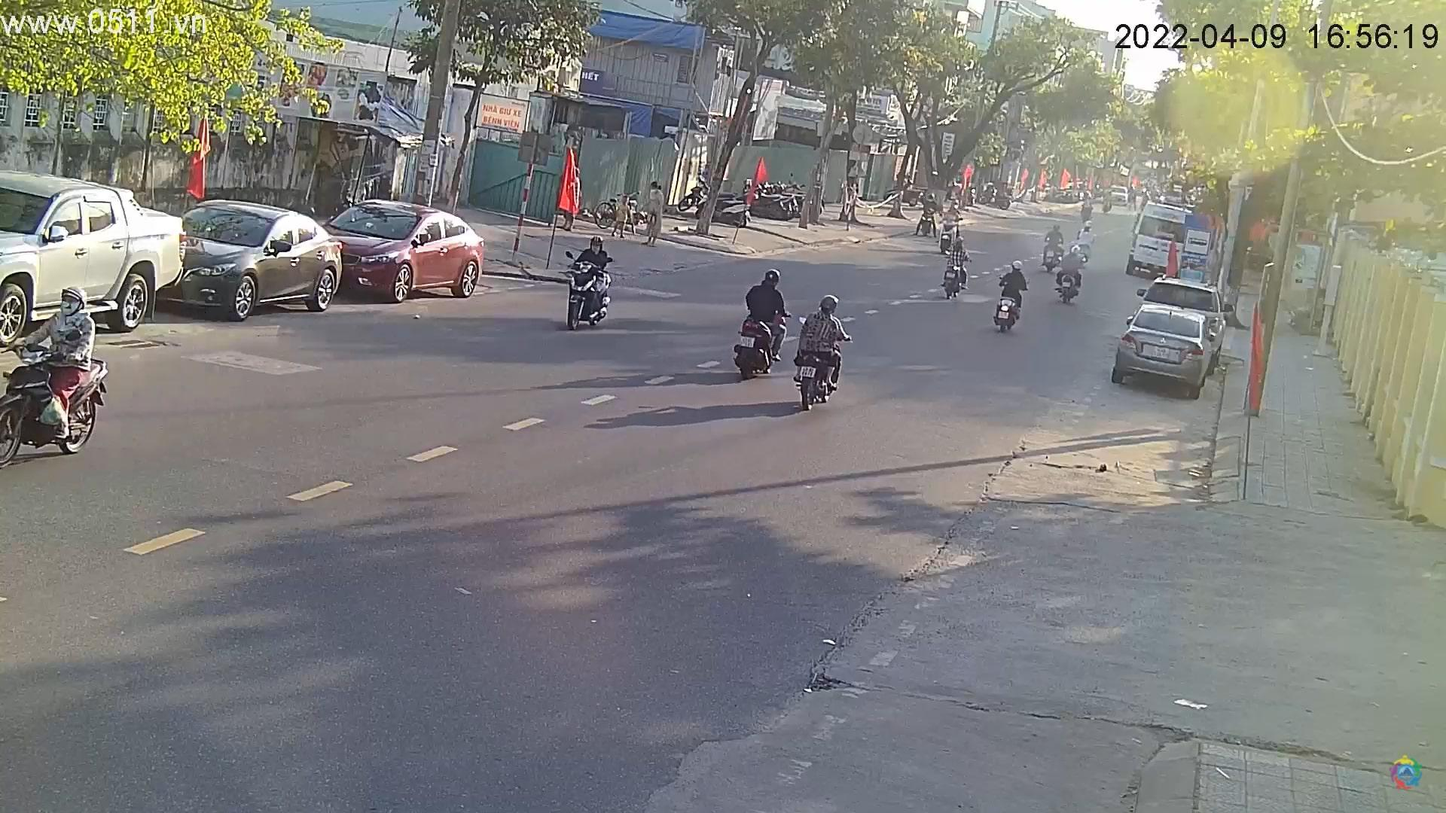car: (2, 171, 185, 350), (169, 201, 351, 322), (316, 199, 489, 306)
motorbike: (0, 297, 108, 472), (560, 243, 617, 329)
